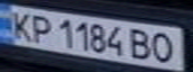1: (51, 16, 75, 48), (69, 19, 90, 52)
4: (106, 24, 130, 56)
8: (87, 20, 109, 54)
B: (127, 27, 157, 61)
K: (3, 8, 39, 42)
O: (148, 30, 181, 65)
P: (24, 12, 57, 44)
